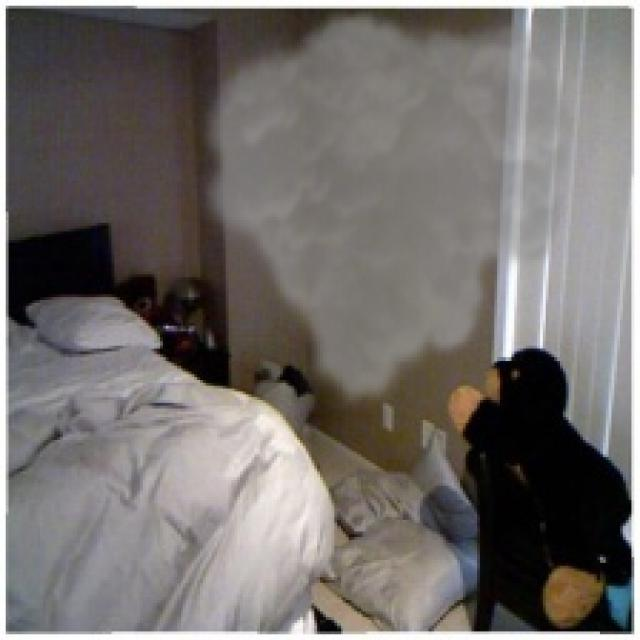smoke: (191, 6, 583, 414)
